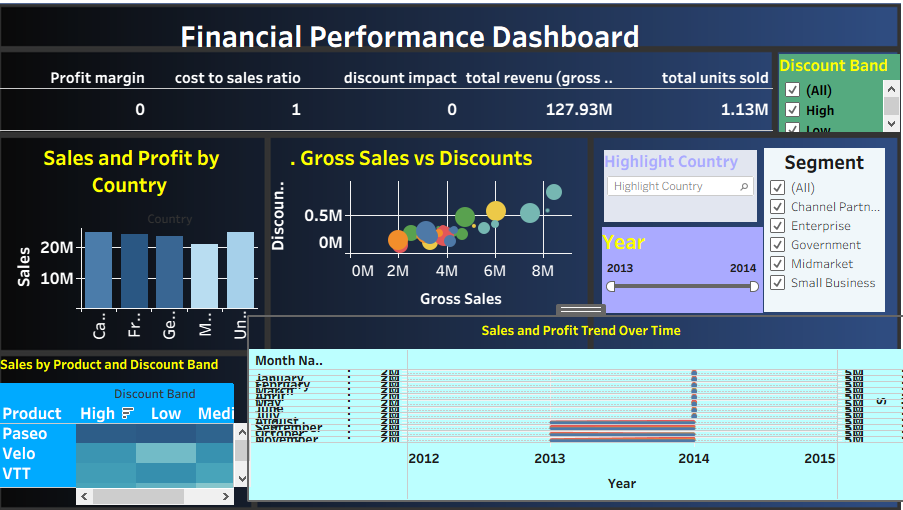

Layout of this report page (visuals, bound fields, positions):
{"tool":"tableau","page":{"name":"financial Performance Dashboard","canvas":[1228,1098],"ordinal":0},"visuals":[{"type":"image","param":"Image/HR background.pptx (1).png","box":[8,8,1212,1082]},{"type":"text","box":[33,219,1059,49]},{"type":"worksheet","title":"kpi ","mark":"Automatic","box":[10,261,1033,114]},{"type":"filter","title":"Sales by Product and Discount Band ","param":"[federated.0ss6o5p1k8n08x14bsf2g1v1eh1u].[none:Discount Band:nk]","box":[1051,269,160,108]},{"type":"worksheet","title":"Sales and Profit by Country ","mark":"Bar","rows":["Sales"],"cols":["Country"],"box":[27,387,335,279]},{"type":"worksheet","title":". Gross Sales vs Discounts  ","mark":"Circle","rows":["Discounts"],"cols":["Gross Sales"],"box":[363,387,414,244]},{"type":"filter","title":"Sales and Profit by Country ","param":"[federated.0ss6o5p1k8n08x14bsf2g1v1eh1u].[none:Segment:nk]","box":[1031,399,160,226]},{"type":"highlighter","title":"Sales and Profit by Country ","param":"[federated.0ss6o5p1k8n08x14bsf2g1v1eh1u].[none:Country:nk]","box":[819,402,203,99]},{"type":"filter","title":"Sales and Profit Trend Over Time ","param":"[federated.0ss6o5p1k8n08x14bsf2g1v1eh1u].[none:Year:qk]","box":[817,508,213,118]},{"type":"worksheet","title":"Sales and Profit Trend Over Time ","mark":"Automatic","rows":["Month Name","Profit","Sales"],"cols":["Year"],"box":[350,632,882,252]},{"type":"worksheet","title":"Sales by Product and Discount Band ","mark":"Square","rows":["Product"],"cols":["Discount Band"],"box":[15,678,338,212]}]}

Visuals, with their boxes on the page's 1228x1098 design canvas (x1, y1, x2, y2). These are canvas units, not pixel positions in the 903x510 screenshot, which may show the page scaled, cropped or inside an application window:
image: rect(8, 8, 1220, 1090)
text: rect(33, 219, 1092, 268)
"kpi " worksheet: rect(10, 261, 1043, 375)
"Sales by Product and Discount Band " filter: rect(1051, 269, 1211, 377)
"Sales and Profit by Country " worksheet (Bar marks): rect(27, 387, 362, 666)
". Gross Sales vs Discounts  " worksheet (Circle marks): rect(363, 387, 777, 631)
"Sales and Profit by Country " filter: rect(1031, 399, 1191, 625)
"Sales and Profit by Country " highlighter: rect(819, 402, 1022, 501)
"Sales and Profit Trend Over Time " filter: rect(817, 508, 1030, 626)
"Sales and Profit Trend Over Time " worksheet: rect(350, 632, 1232, 884)
"Sales by Product and Discount Band " worksheet (Square marks): rect(15, 678, 353, 890)
